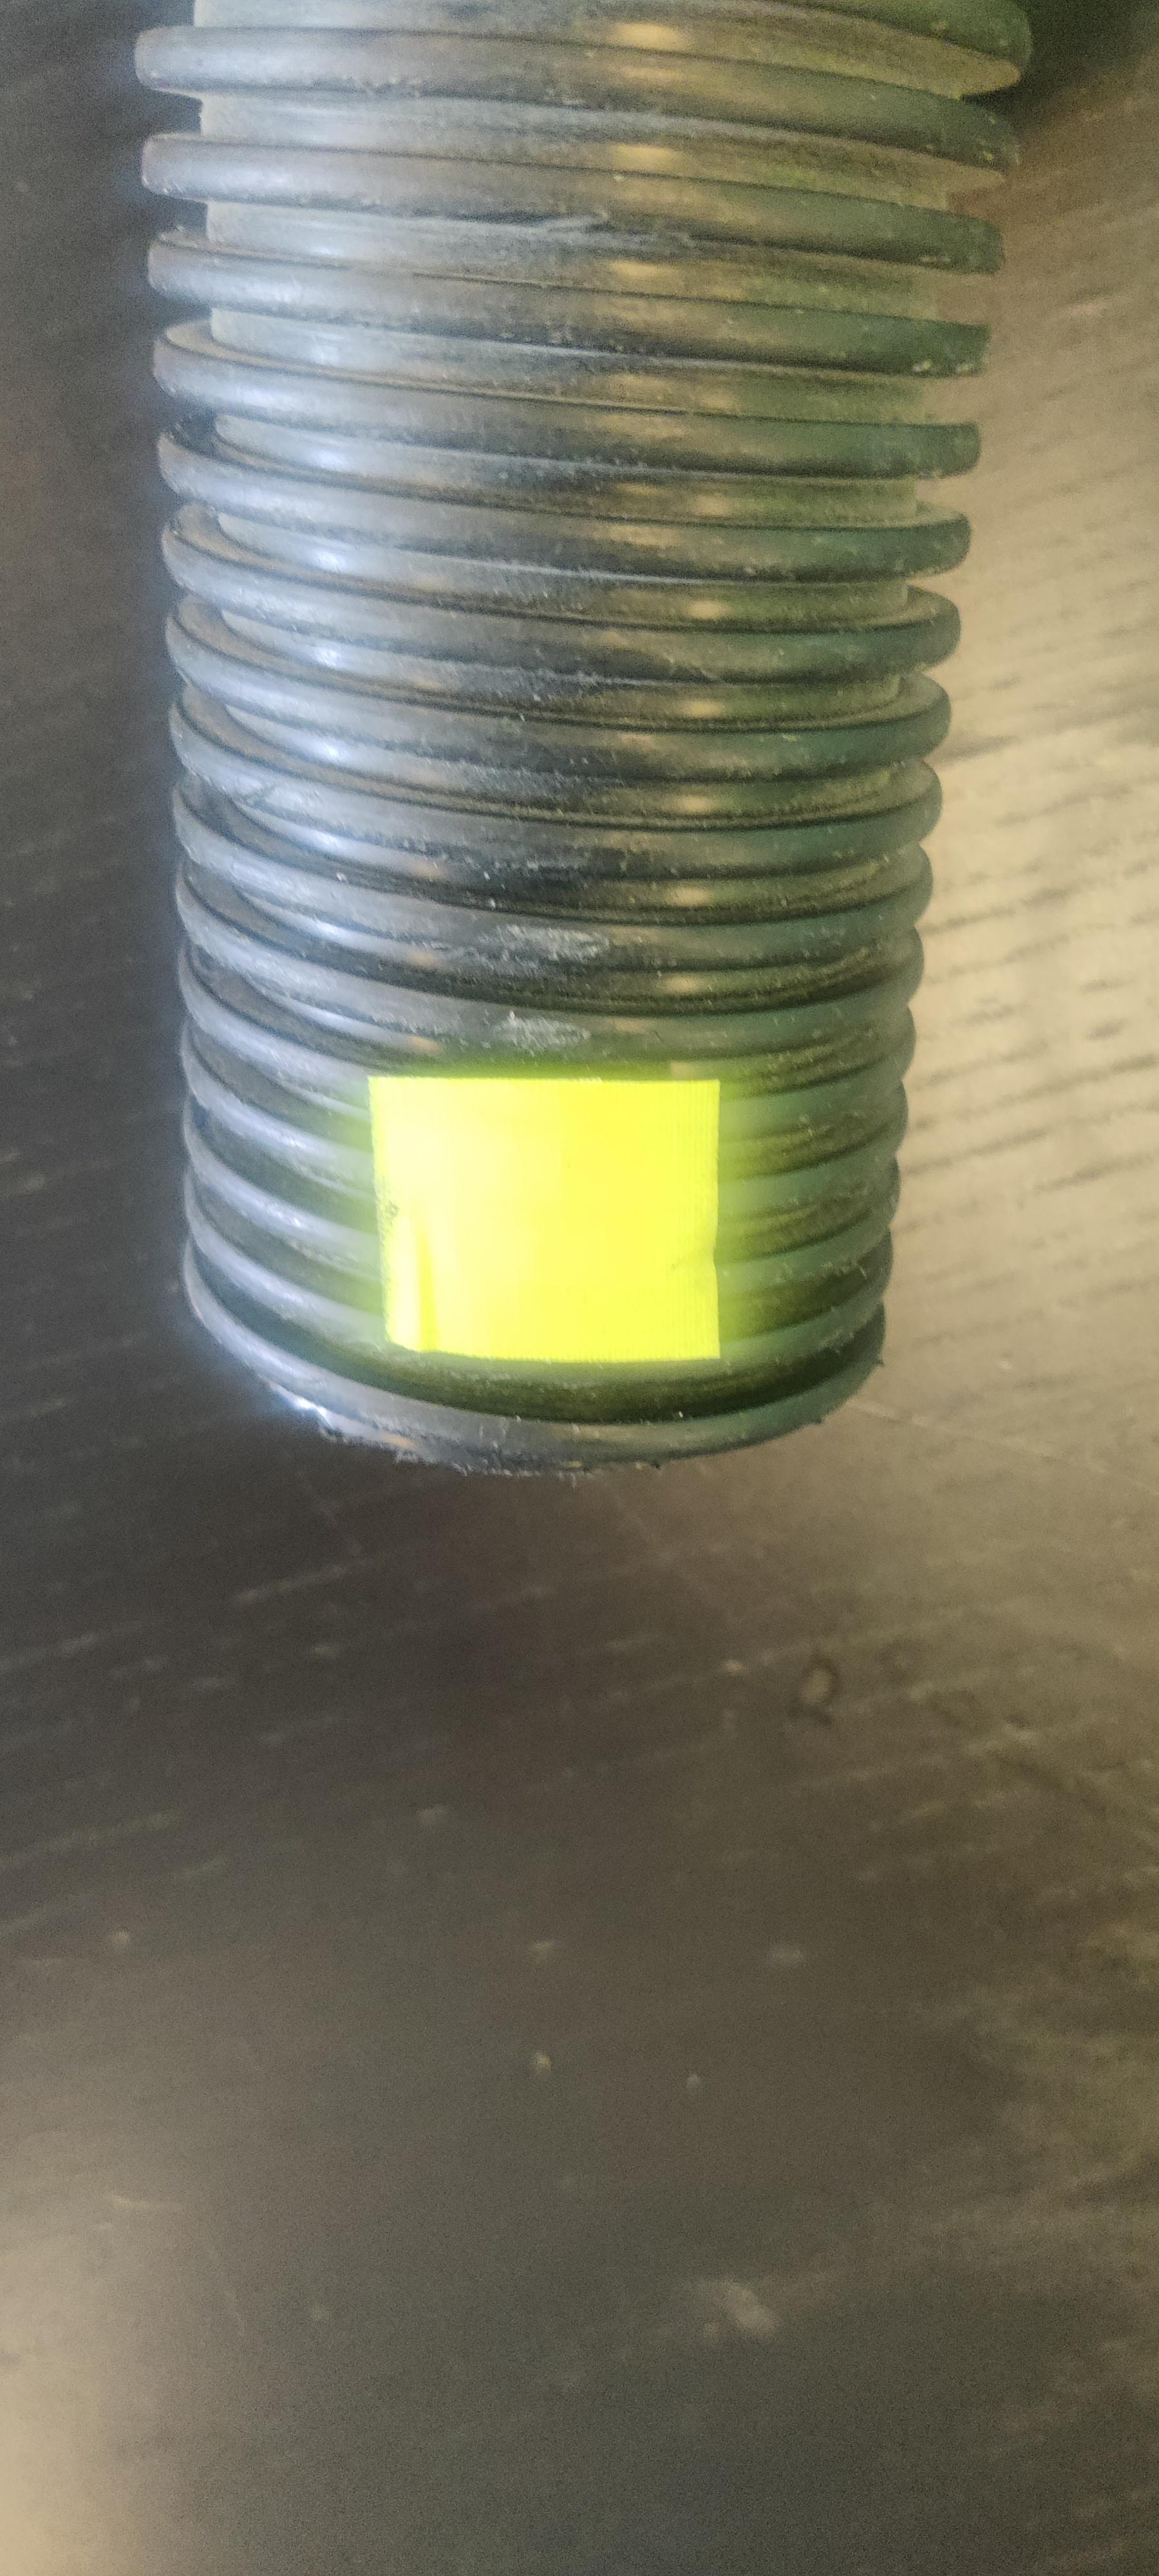robot-front: (204, 15, 975, 1459)
